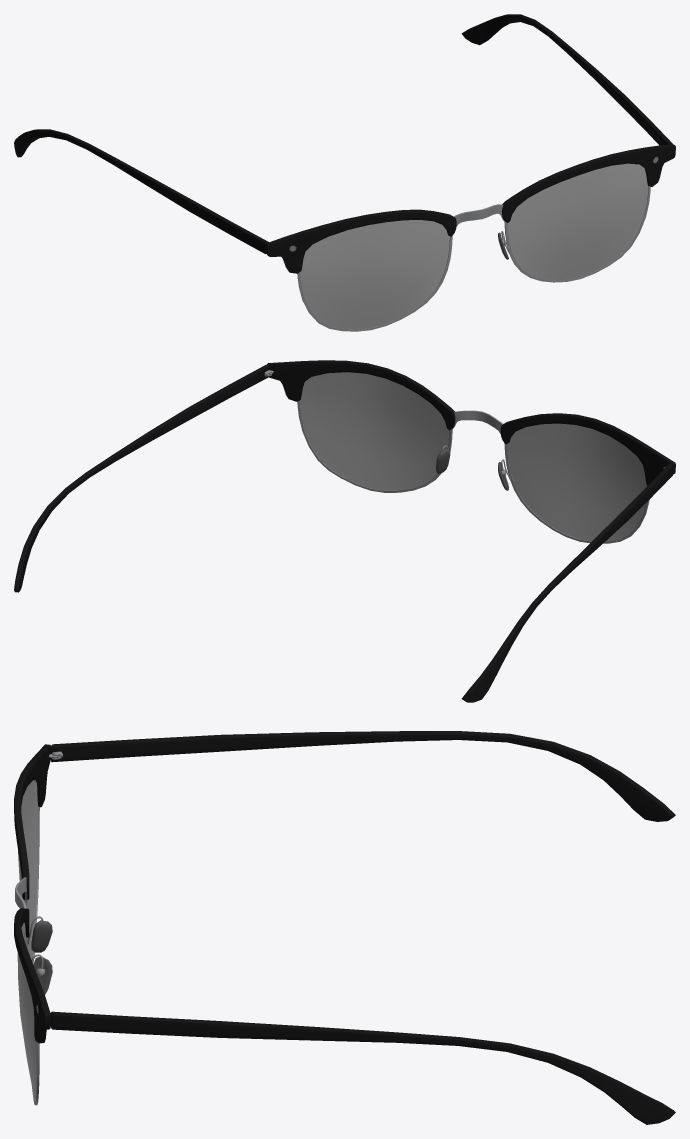
The model's file is black_sunglasses_fixed_origin.glb.
The picture shows the model from 3 angles, top to bottom: view 1: azimuth 30°, elevation 25°; view 2: azimuth 150°, elevation 25°; view 3: azimuth 270°, elevation 25°; orthographic projection. The views are drawn at different scales.
Visible parts, largest first — view 1: Glasses_silver; view 2: Glasses_silver; view 3: Glasses_silver.
Boxes of the visible parts, bbox=[...] form: Glasses_silver: bbox=[14, 14, 675, 331]; Glasses_silver: bbox=[14, 360, 675, 702]; Glasses_silver: bbox=[14, 731, 675, 1124].
Size of the model in its own units: 0.1637 by 0.0395 by 0.145.
1 material, 1 textured.
